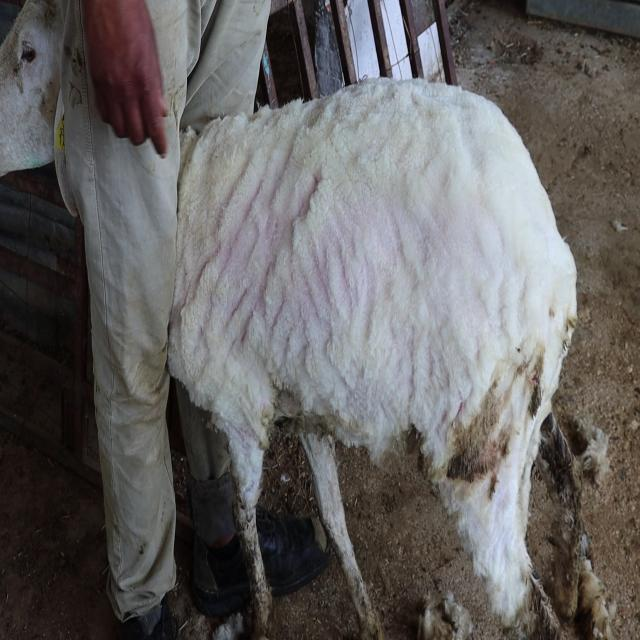Score_5: (168, 78, 611, 639)
